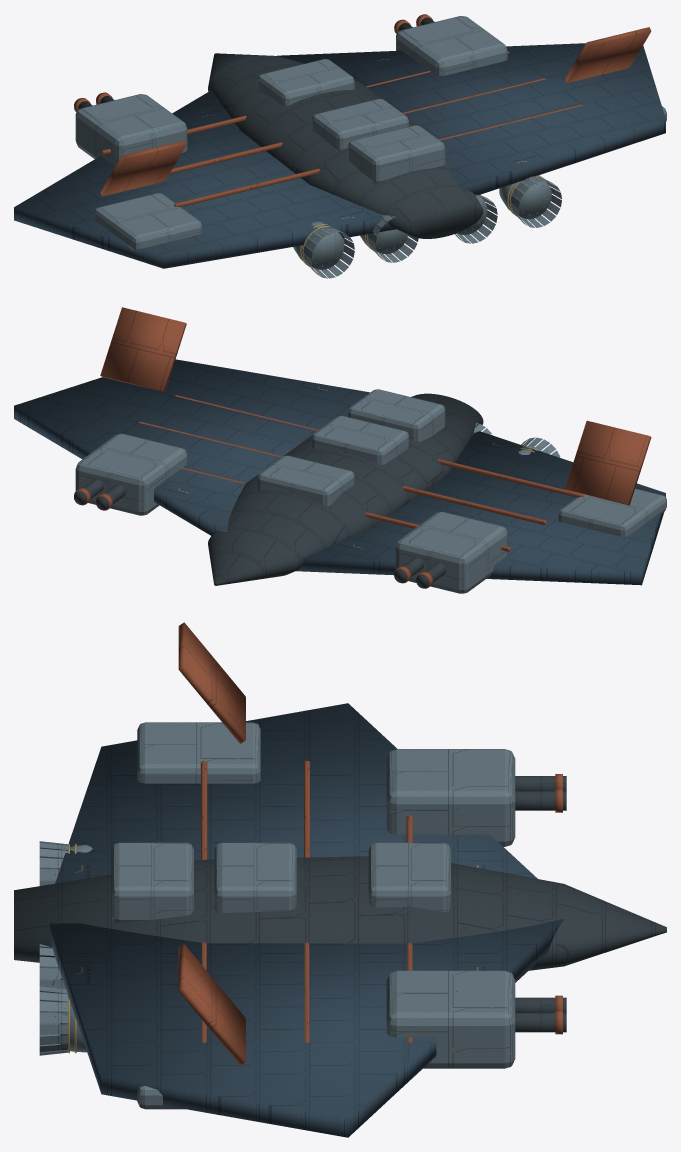
Rendered from prism-high.glb.
The picture shows the model from 3 angles, top to bottom: view 1: azimuth 30°, elevation 25°; view 2: azimuth 150°, elevation 25°; view 3: azimuth 270°, elevation 25°; orthographic projection. The views are drawn at different scales.
Visible parts, largest first — view 1: core-navy-surfaces, core-graphite-surfaces, core-titanium-surfaces, part_0-titanium-surfaces, part_1-titanium-surfaces, part_2-titanium-surfaces, core-hostile-surfaces, part_2-hostile-surfaces, part_3-hostile-surfaces; view 2: core-navy-surfaces, core-graphite-surfaces, core-titanium-surfaces, part_0-titanium-surfaces, part_1-titanium-surfaces, part_3-hostile-surfaces, part_2-hostile-surfaces, part_2-titanium-surfaces, core-hostile-surfaces, part_0-graphite-surfaces, part_1-graphite-surfaces; view 3: core-navy-surfaces, core-graphite-surfaces, core-titanium-surfaces, part_1-titanium-surfaces, part_0-titanium-surfaces, part_2-titanium-surfaces, part_3-hostile-surfaces, part_2-hostile-surfaces, core-hostile-surfaces, part_1-graphite-surfaces, part_0-graphite-surfaces.
Part boxes in pixels (left/top/right/bottom): core-navy-surfaces: left=14, top=43, right=665, bottom=268; core-graphite-surfaces: left=208, top=53, right=483, bottom=238; core-titanium-surfaces: left=257, top=59, right=561, bottom=278; part_0-titanium-surfaces: left=75, top=94, right=187, bottom=166; part_1-titanium-surfaces: left=396, top=16, right=507, bottom=75; part_2-titanium-surfaces: left=94, top=193, right=202, bottom=251; core-hostile-surfaces: left=101, top=51, right=582, bottom=206; part_2-hostile-surfaces: left=100, top=140, right=186, bottom=196; part_3-hostile-surfaces: left=565, top=27, right=651, bottom=82; core-navy-surfaces: left=14, top=359, right=665, bottom=585; core-graphite-surfaces: left=208, top=393, right=483, bottom=585; core-titanium-surfaces: left=257, top=389, right=560, bottom=506; part_0-titanium-surfaces: left=396, top=512, right=507, bottom=593; part_1-titanium-surfaces: left=75, top=433, right=187, bottom=515; part_3-hostile-surfaces: left=100, top=307, right=186, bottom=391; part_2-hostile-surfaces: left=565, top=420, right=651, bottom=505; part_2-titanium-surfaces: left=558, top=488, right=666, bottom=536; core-hostile-surfaces: left=138, top=395, right=583, bottom=551; part_0-graphite-surfaces: left=394, top=557, right=445, bottom=588; part_1-graphite-surfaces: left=74, top=479, right=125, bottom=510; core-navy-surfaces: left=50, top=703, right=563, bottom=1137; core-graphite-surfaces: left=14, top=856, right=666, bottom=970; core-titanium-surfaces: left=39, top=841, right=450, bottom=1055; part_1-titanium-surfaces: left=386, top=970, right=515, bottom=1068; part_0-titanium-surfaces: left=386, top=749, right=515, bottom=846; part_2-titanium-surfaces: left=137, top=722, right=260, bottom=783; part_3-hostile-surfaces: left=178, top=944, right=245, bottom=1065; part_2-hostile-surfaces: left=178, top=622, right=245, bottom=743; core-hostile-surfaces: left=201, top=761, right=412, bottom=1042; part_1-graphite-surfaces: left=515, top=997, right=566, bottom=1032; part_0-graphite-surfaces: left=515, top=776, right=566, bottom=810.
Bounding box in the file's own units: 20 × 3.77 × 12.7.
5 materials, 5 textured.
